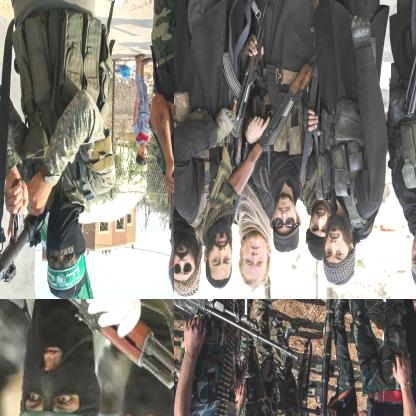rifle: (0, 299, 173, 415), (222, 53, 316, 199), (174, 299, 302, 365), (223, 0, 271, 139), (0, 197, 49, 298), (312, 299, 347, 415), (398, 0, 415, 119), (165, 177, 173, 298)
